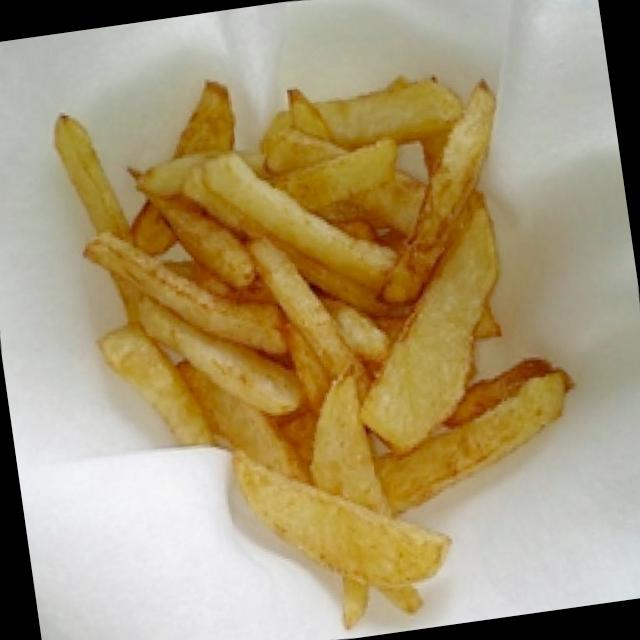French Fries: (26, 24, 612, 614)
